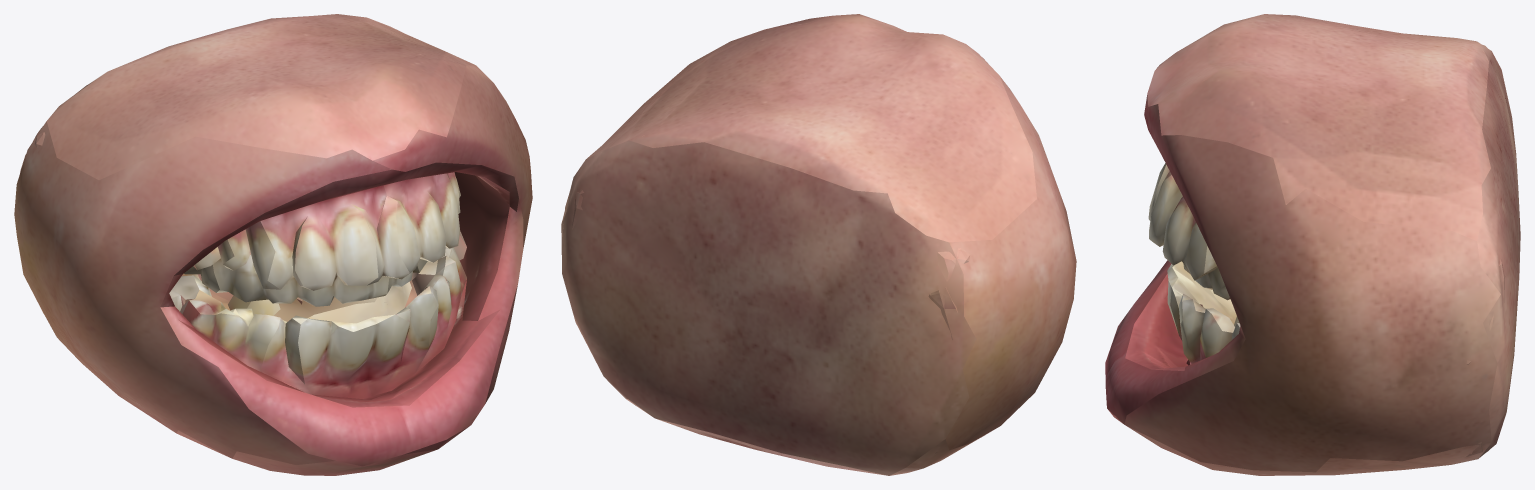
Rendered from charge_grin.glb.
The picture shows the model from 3 angles, left to right: view 1: azimuth 30°, elevation 25°; view 2: azimuth 150°, elevation 25°; view 3: azimuth 270°, elevation 25°; orthographic projection. The views are drawn at different scales.
Visible parts, largest first — view 1: geometry_0; view 2: geometry_0; view 3: geometry_0.
Part boxes in pixels (x1=…): geometry_0: x1=14, y1=14, x2=532, y2=475; geometry_0: x1=561, y1=14, x2=1076, y2=475; geometry_0: x1=1105, y1=14, x2=1520, y2=475.
Size of the model in its own units: 0.09 by 0.0733 by 0.0704.
1 material, 1 textured.
